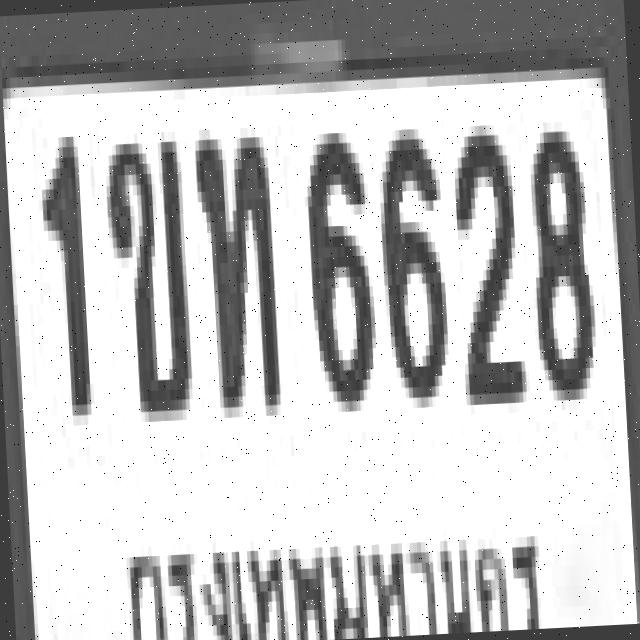1: (35, 126, 88, 406)
11KhorKhai: (100, 131, 190, 413)
2: (448, 114, 519, 395)
32ThorThaHan: (190, 126, 276, 408)
6: (300, 121, 372, 402), (376, 112, 446, 394)
8: (524, 120, 591, 392)
Bangkok: (116, 496, 553, 640)
